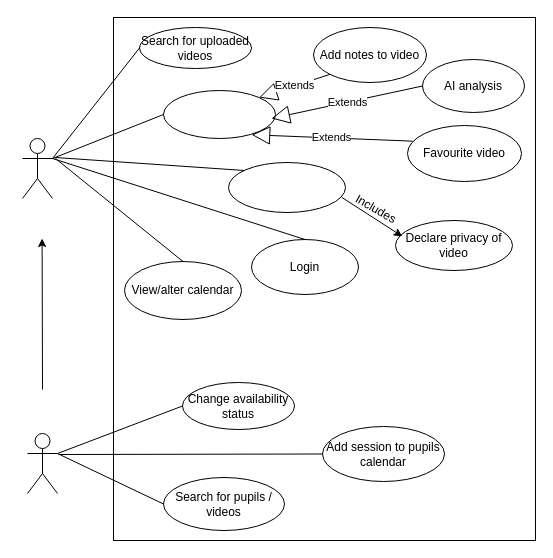
Image size: 553x558. Some labels were removed from this diagram. Each missing label, with the centre of its shape:
"Climber" goes at point 37,168.
"Instructor" goes at point 42,463.
"Upload" goes at point 287,187.
"View uploaded videos" goes at point 219,114.
